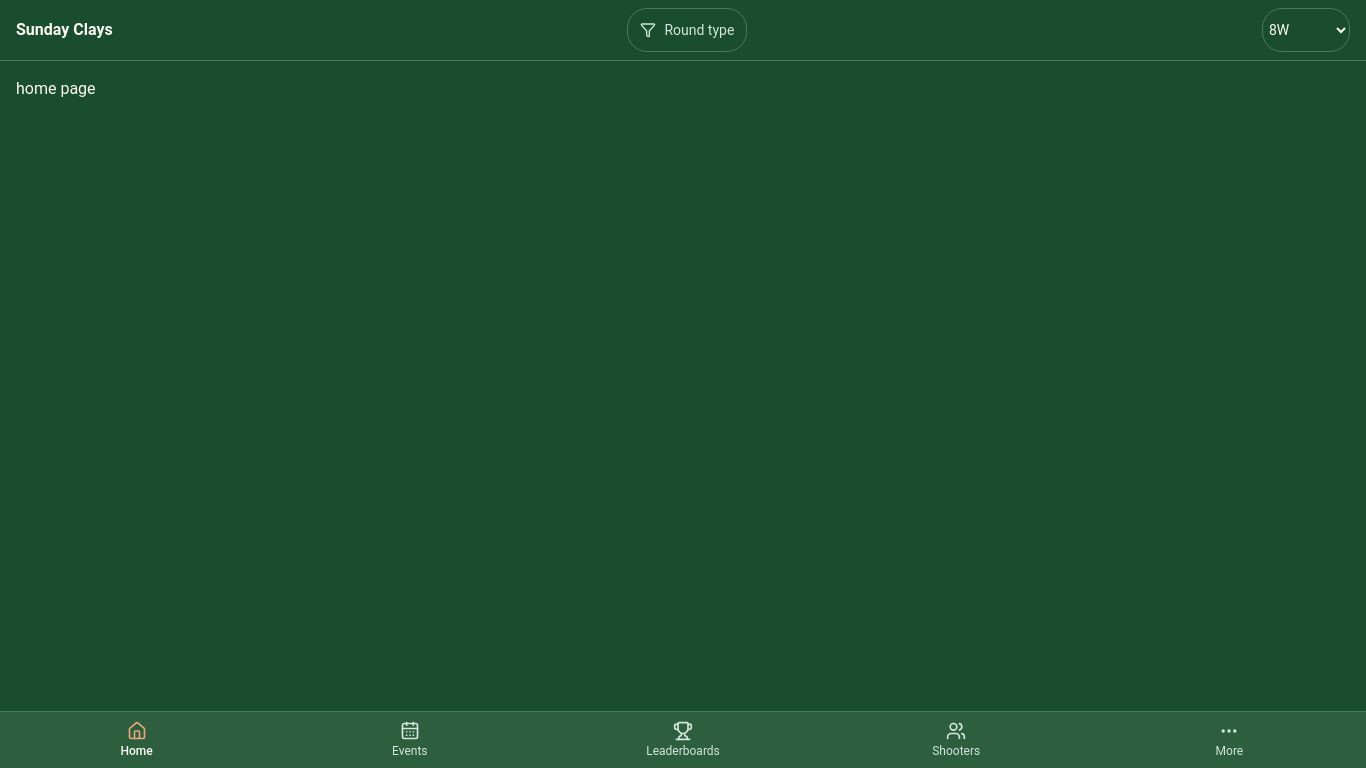
Test: AppShell on mobile › shows admin-only items in More for admins
Click the button "More" at (1229,740), box [1093,712,1365,767]
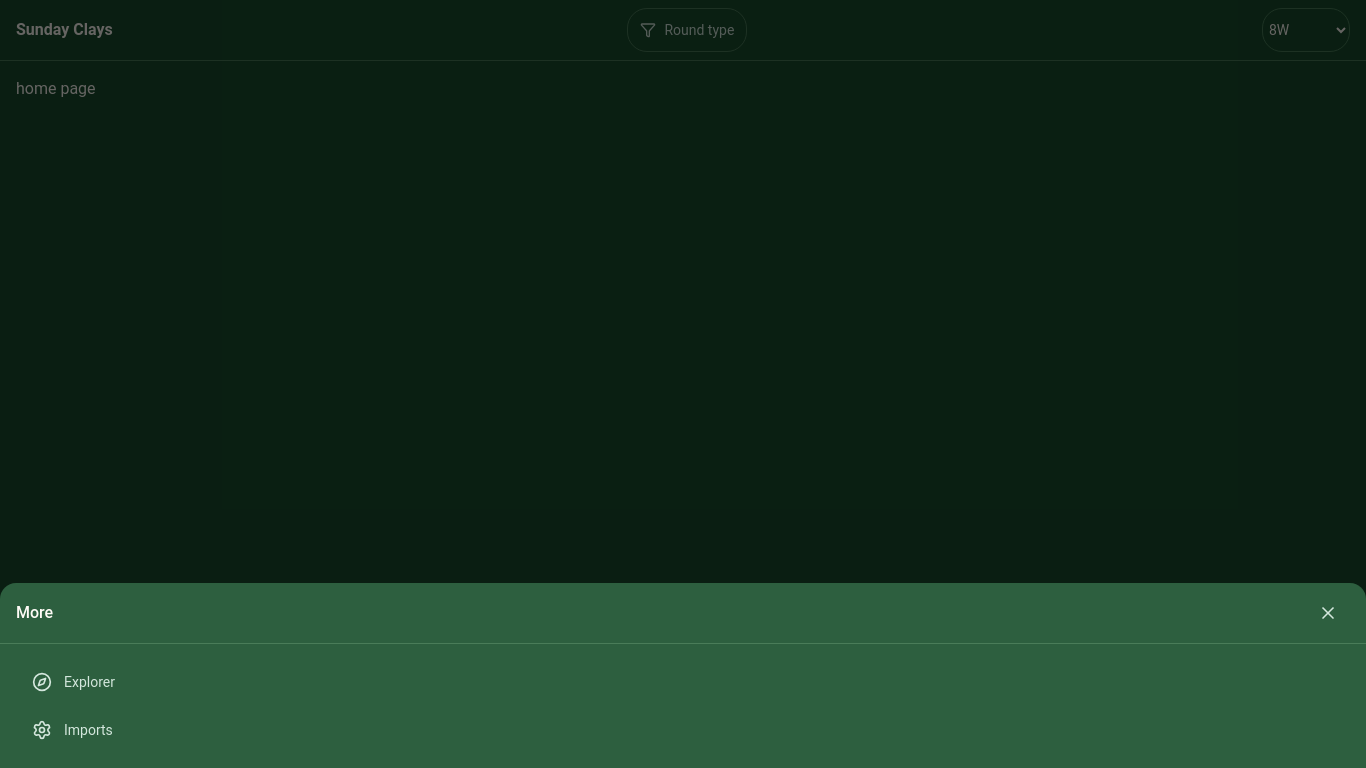
Check: the link "Imports" is shown, box [32,720,113,740]
